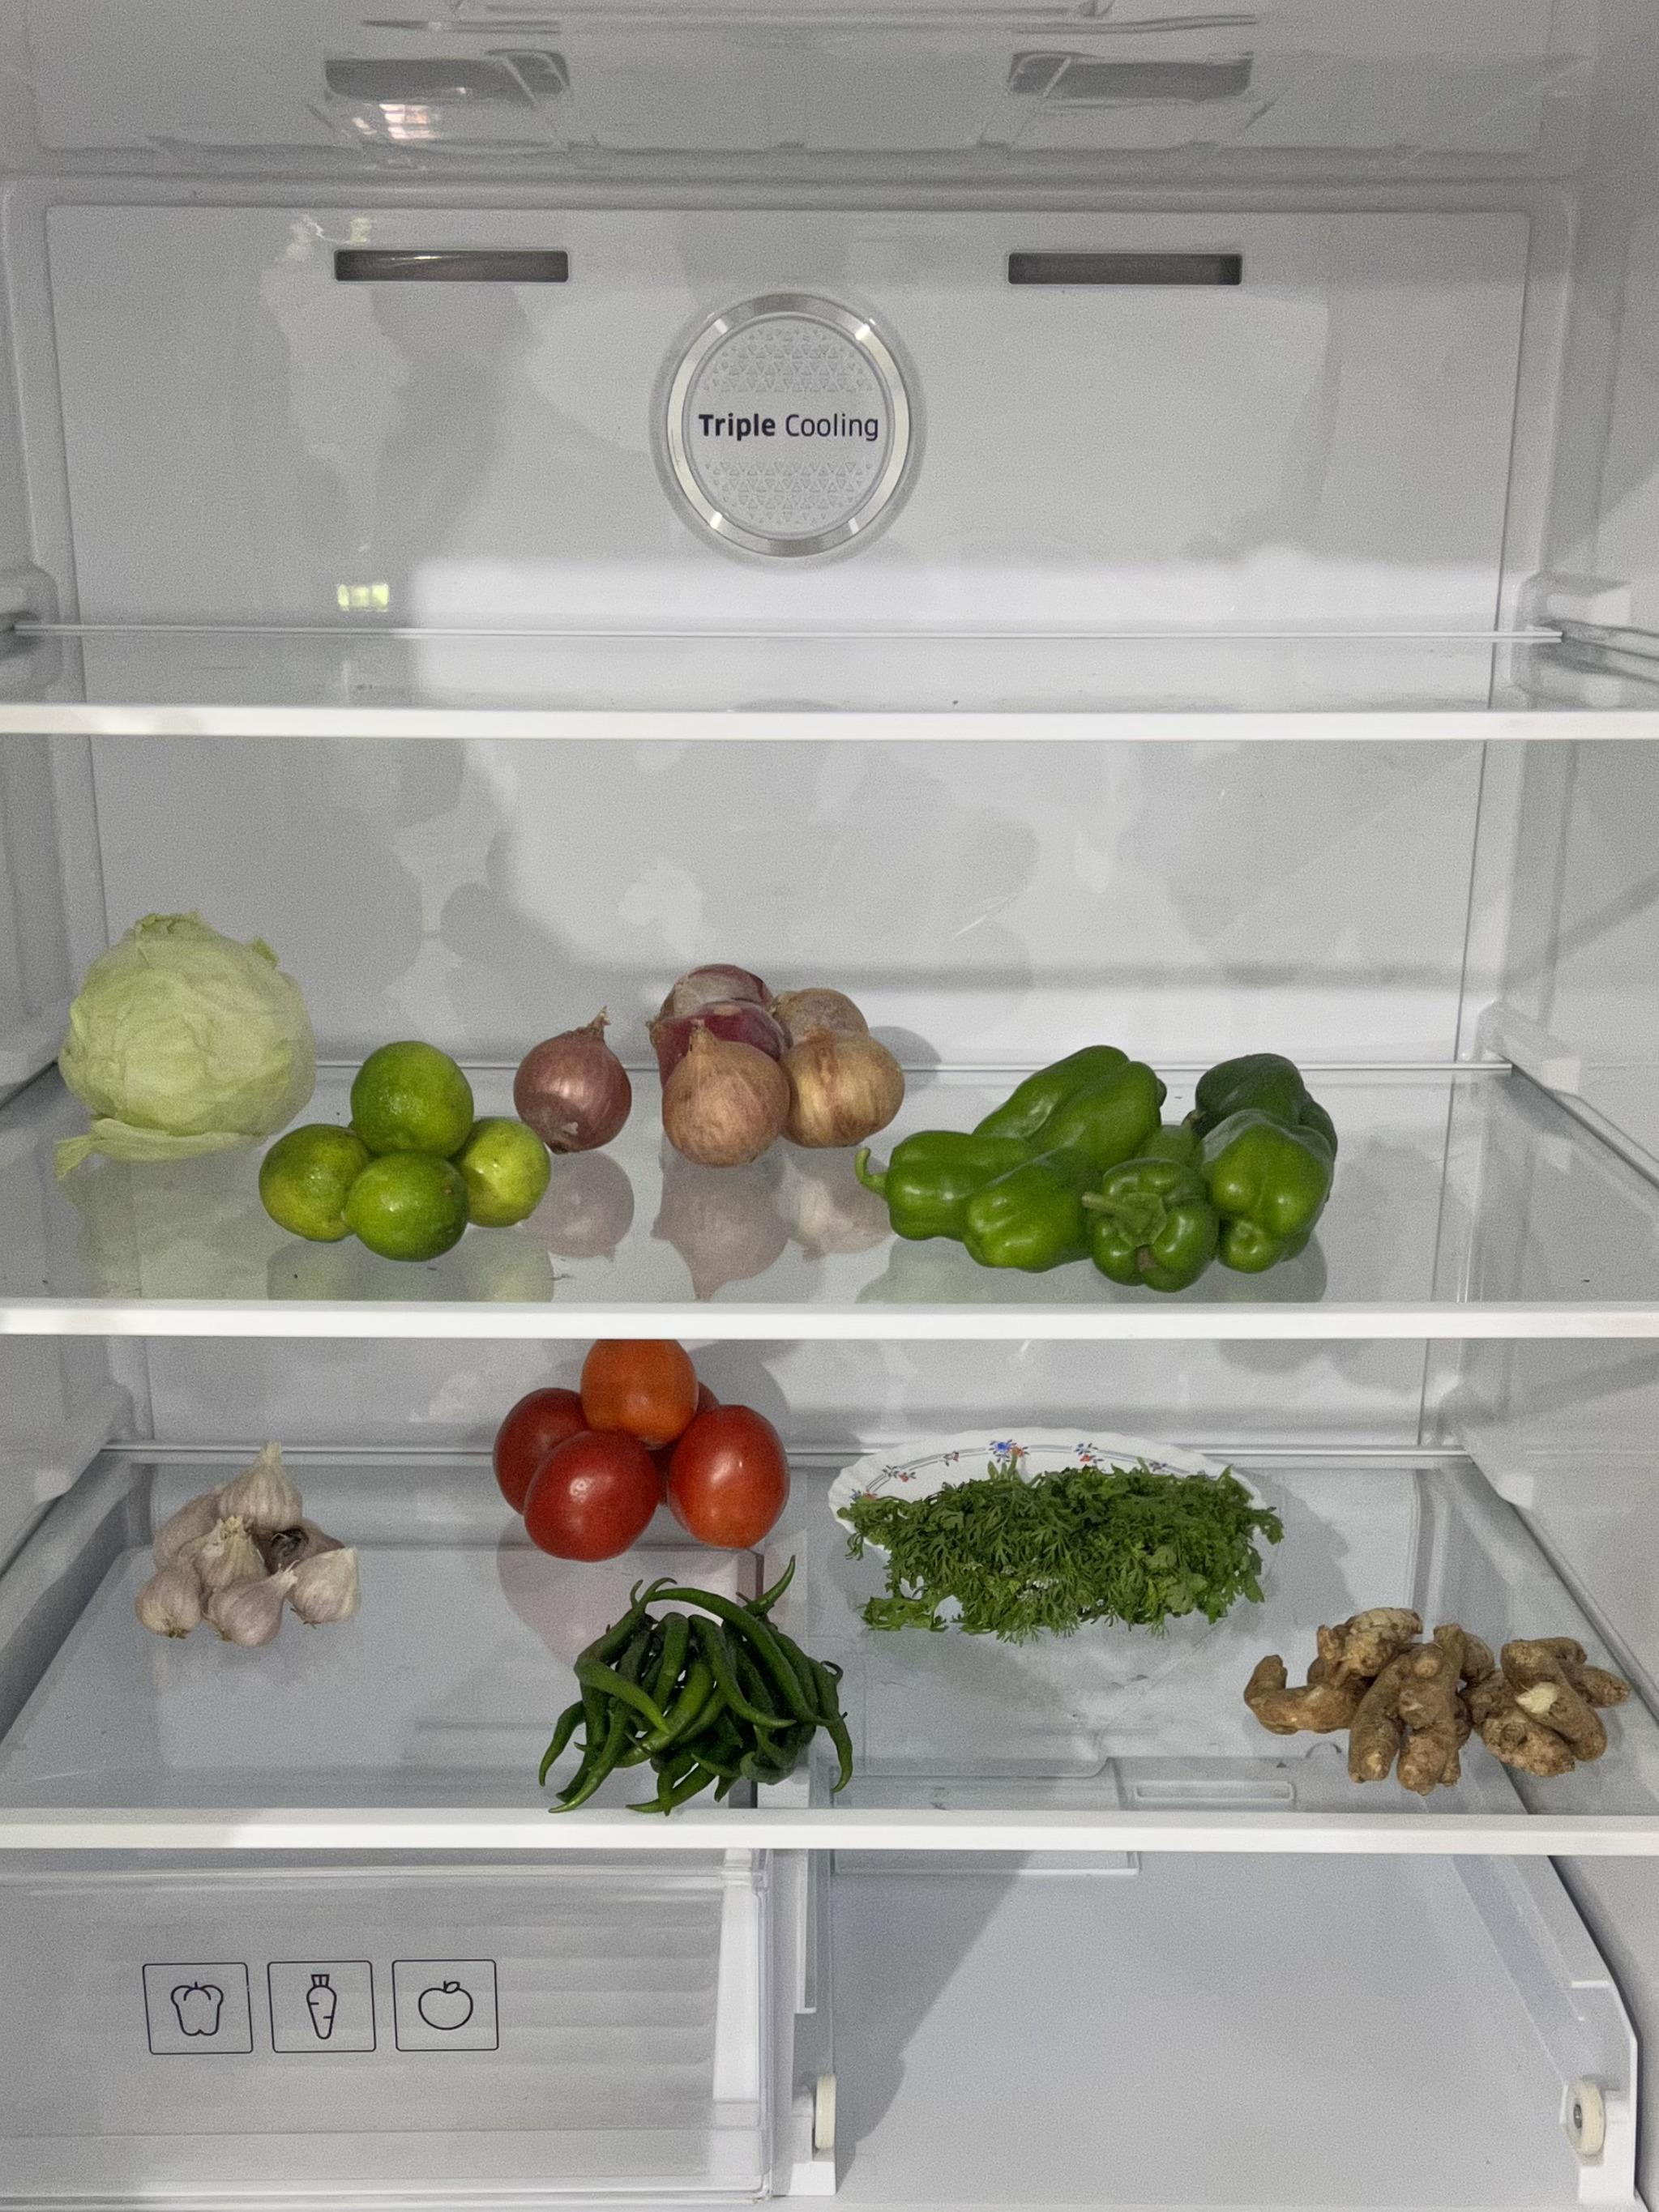cabbage: (56, 907, 310, 1151)
capsicum: (878, 1045, 1337, 1285)
chillies: (540, 1564, 857, 1813)
coriander: (838, 1465, 1283, 1637)
garlic: (134, 1440, 361, 1648)
ginger: (1243, 1604, 1629, 1796)
lemon: (256, 1038, 551, 1256)
onion: (512, 951, 906, 1158)
tomato: (491, 1338, 789, 1561)
